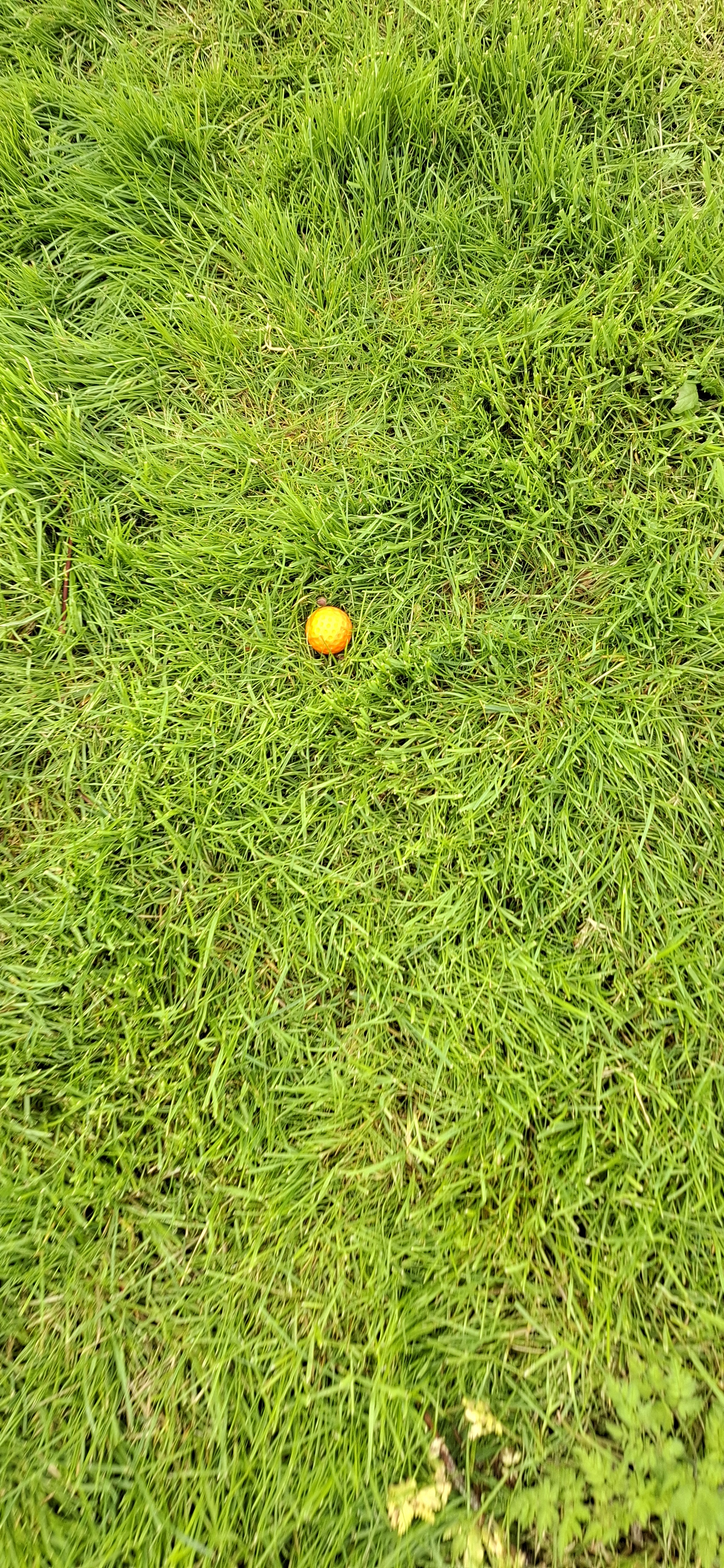ball: (280, 805, 303, 911)
